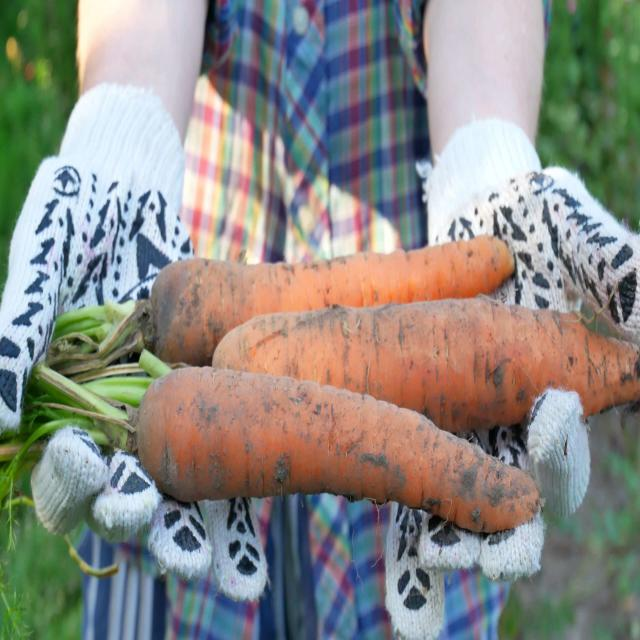carrot: (137, 363, 546, 538), (212, 290, 639, 437), (145, 232, 520, 369)
